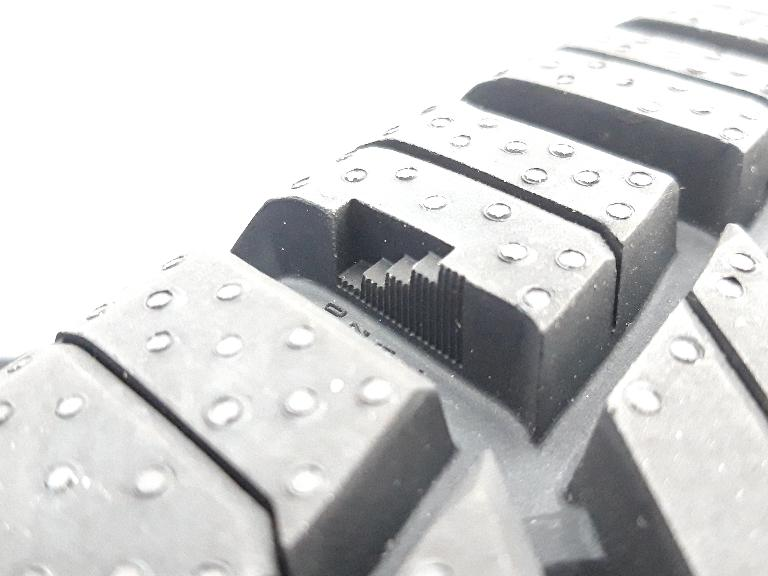temoin:100: (319, 190, 474, 381)
